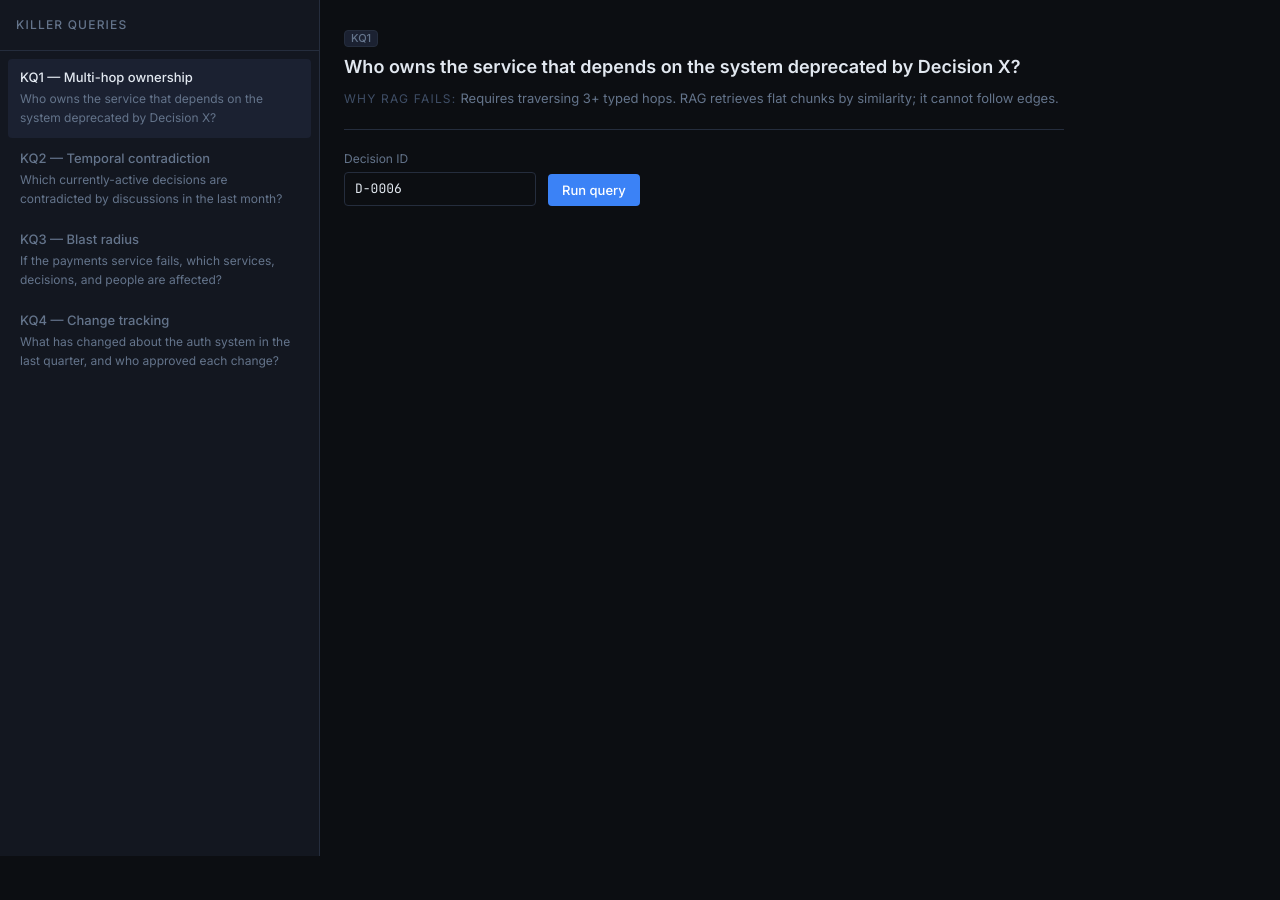
Queries › displays the owner answer after KQ1 runs
The image size is (1280, 900).
Click the button "Run query": (594, 190) [548, 174, 640, 206]
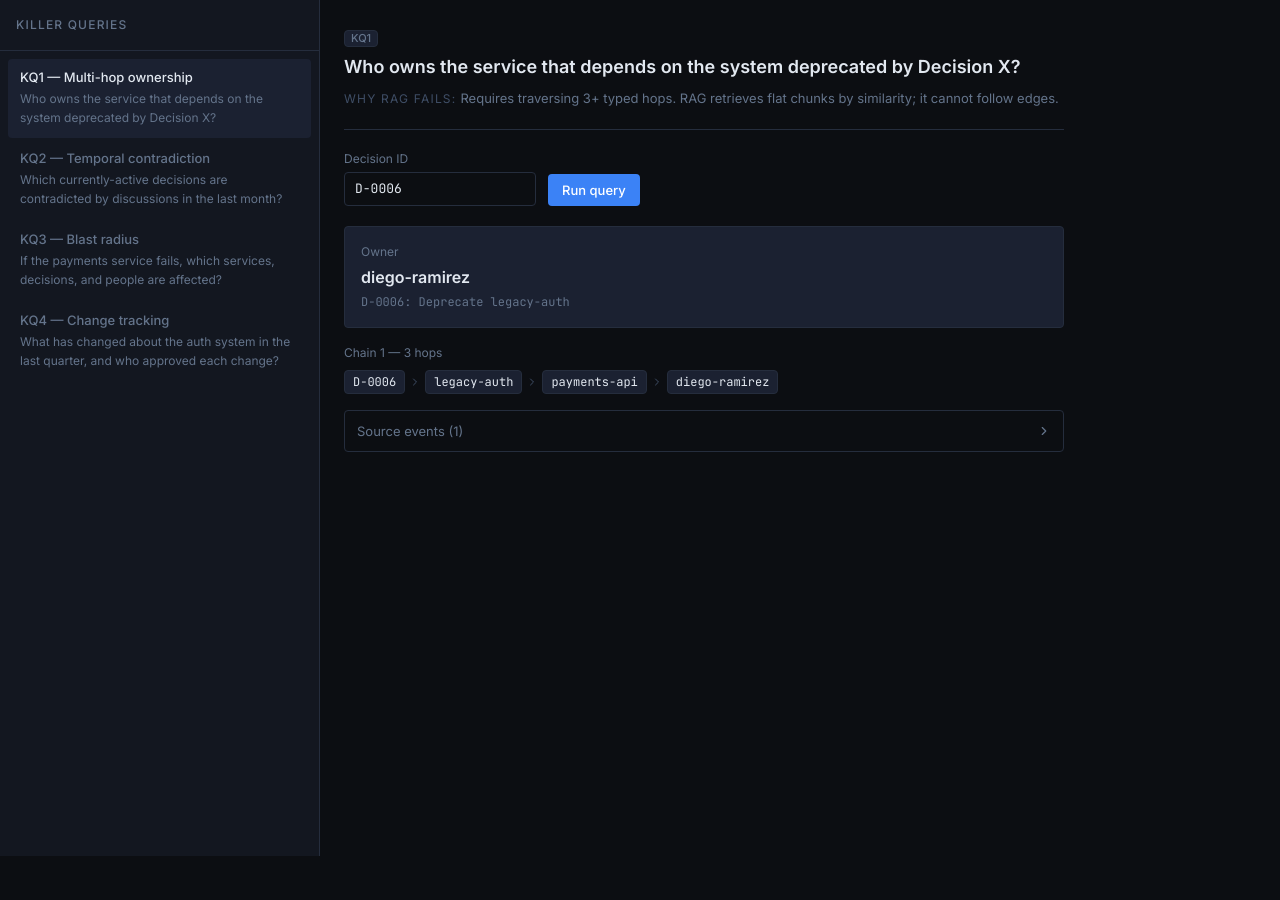
Expected: the 1st text "diego-ramirez" is shown, [361, 267, 470, 287]
